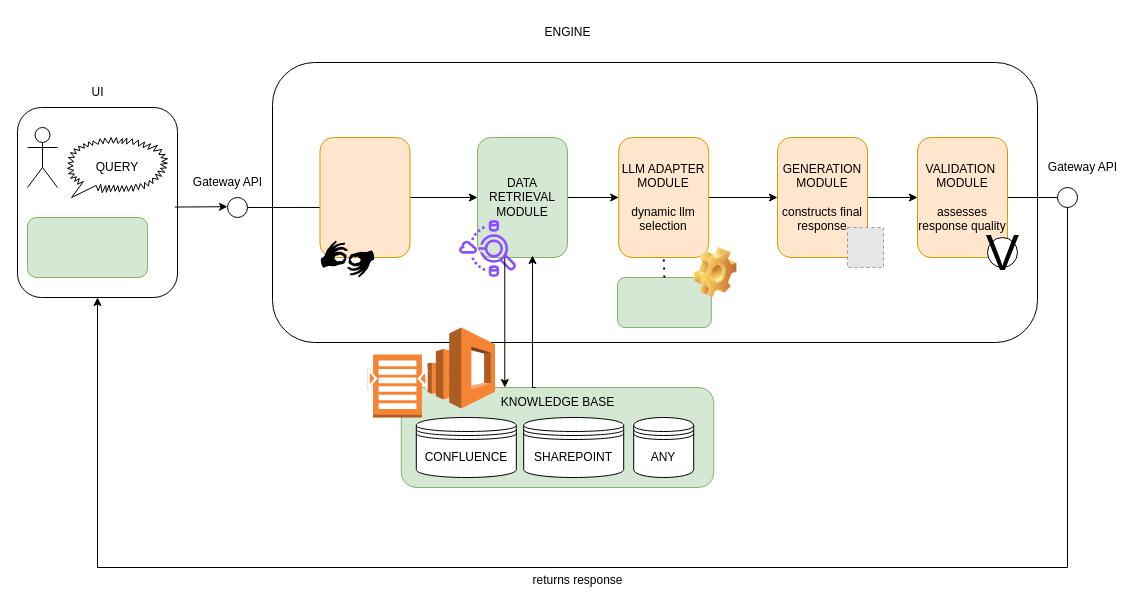
The diagram is 1145 pixels wide and 612 high, and some of its shapes have lost their labels. Grey dashed boxes stand in for pictures. The centre of each missing label's shape, as x and y in pixels:
- streamlit UI -discord bot -ms teams bot: [87,247]
NLP MODULE extracts: -intent -ententies: [364,197]
PROMPT ENGINEERING MODULE: [663,302]
USER: [42,157]
